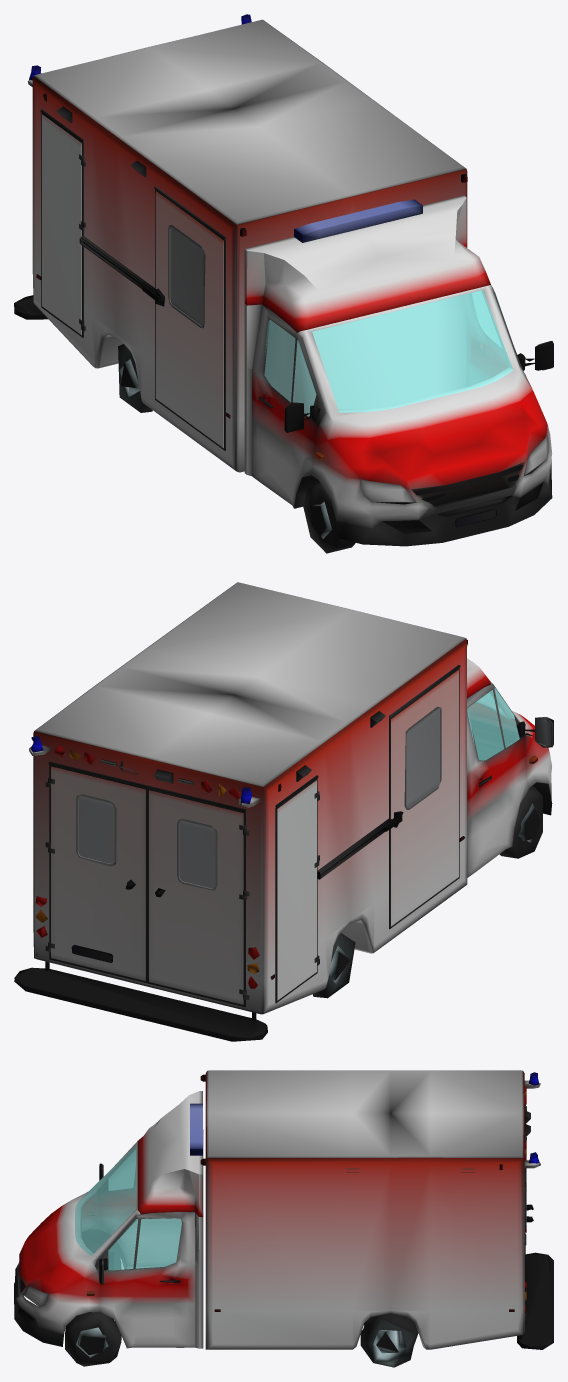
3 renders of one model, top to bottom at view 1: azimuth 30°, elevation 25°; view 2: azimuth 150°, elevation 25°; view 3: azimuth 270°, elevation 25°, orthographic. The views are drawn at different scales.
Visible parts, largest first — view 1: body, glass, wheel_FL, wheel_RL; view 2: body, glass, wheel_FL, wheel_RL; view 3: body, glass, wheel_FR, wheel_RR.
Part boxes in pixels (left/top/right/bottom): body: left=14, top=14, right=553, bottom=546; glass: left=264, top=290, right=513, bottom=416; wheel_FL: left=303, top=483, right=355, bottom=553; wheel_RL: left=118, top=344, right=152, bottom=412; body: left=14, top=582, right=553, bottom=1041; glass: left=467, top=688, right=519, bottom=760; wheel_FL: left=499, top=786, right=542, bottom=858; wheel_RL: left=312, top=933, right=355, bottom=998; body: left=14, top=1070, right=553, bottom=1349; glass: left=75, top=1145, right=181, bottom=1270; wheel_FR: left=65, top=1312, right=121, bottom=1366; wheel_RR: left=360, top=1313, right=418, bottom=1367.
Size of the model in its own units: 2.95 by 2.92 by 6.6.
